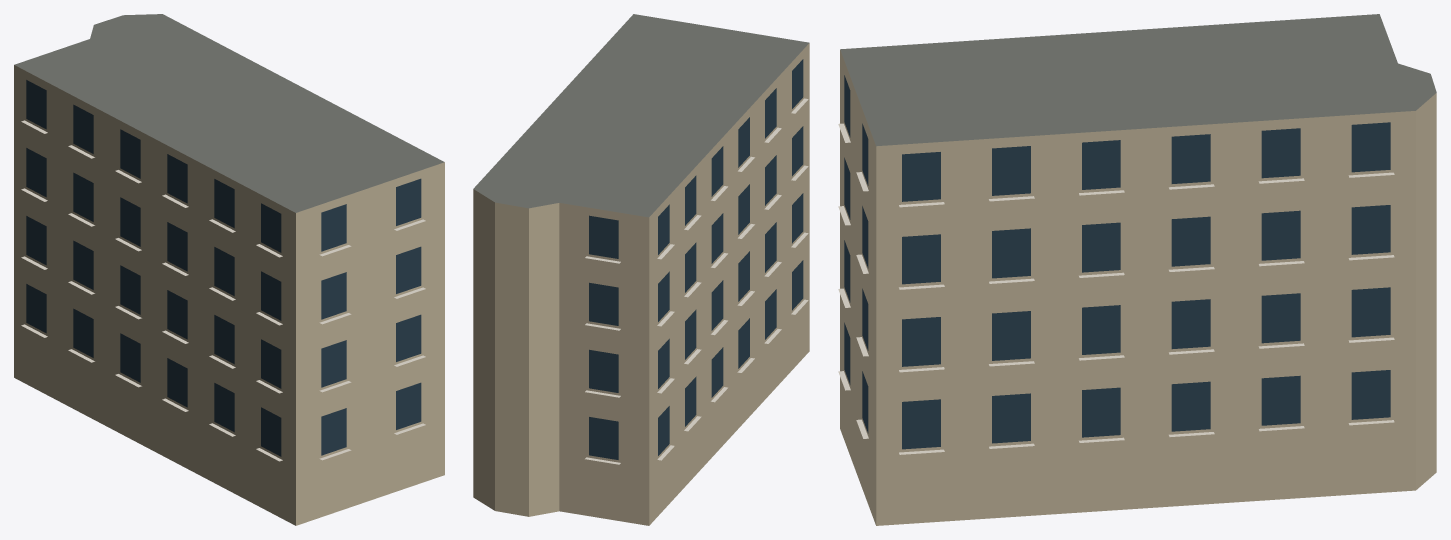
3 views of the same model, side by side, from view 1: azimuth 30°, elevation 25°; view 2: azimuth 150°, elevation 25°; view 3: azimuth 270°, elevation 25° (orthographic). The views are drawn at different scales.
Visible parts, largest first — view 1: Footprint 0, Inferred window bays, Window sills; view 2: Footprint 0, Inferred window bays, Window sills; view 3: Footprint 0, Inferred window bays, Window sills.
Boxes of the visible parts, left/top/right/bottom form: Footprint 0: left=14, top=14, right=444, bottom=525; Inferred window bays: left=26, top=80, right=421, bottom=456; Window sills: left=21, top=120, right=425, bottom=461; Footprint 0: left=473, top=14, right=809, bottom=525; Inferred window bays: left=589, top=59, right=803, bottom=459; Window sills: left=585, top=98, right=808, bottom=464; Footprint 0: left=840, top=14, right=1436, bottom=525; Inferred window bays: left=844, top=75, right=1390, bottom=449; Window sills: left=838, top=123, right=1394, bottom=454.
Bounding box in the file's own units: 10.09 × 13.19 × 18.84.
